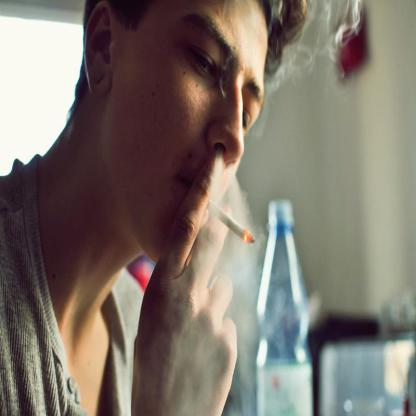smoking: (202, 196, 255, 244)
